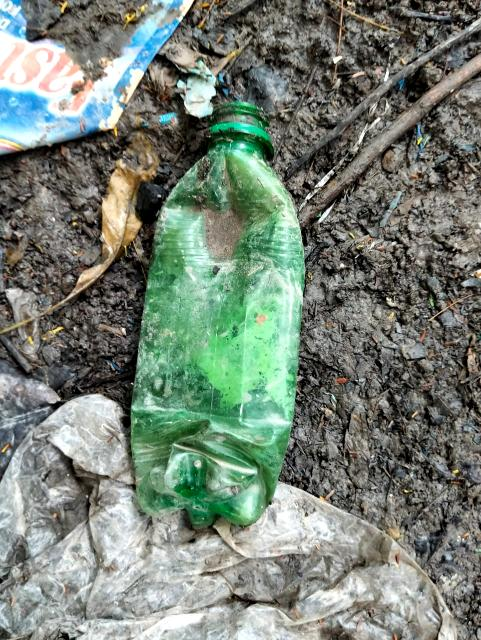bottle: (141, 121, 303, 519)
